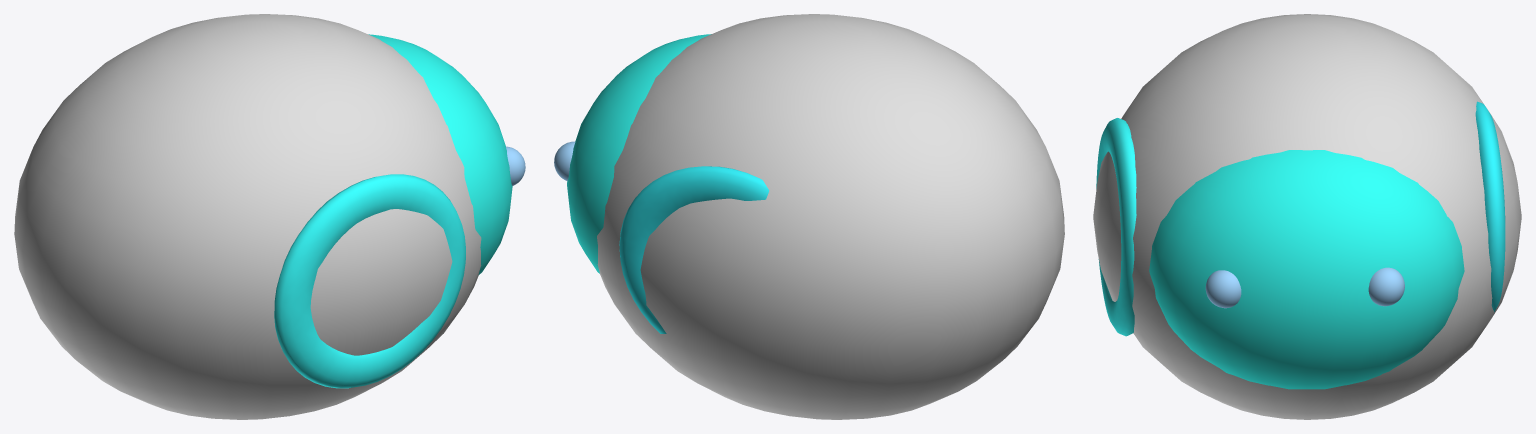
File: guest1.dae
3 views of the same model, side by side, from view 1: azimuth 30°, elevation 25°; view 2: azimuth 150°, elevation 25°; view 3: azimuth 270°, elevation 25° (orthographic). The views are drawn at different scales.
Parts seen in each view (by area): view 1: Sphere, Torus, Sphere_001, Sphere_002; view 2: Sphere, Sphere_001, Torus_001, Sphere_003; view 3: Sphere, Sphere_001, Torus, Torus_001, Sphere_003, Sphere_002.
Part boxes in pixels (bbox=[...]): Sphere: bbox=[14, 14, 481, 419]; Torus: bbox=[274, 174, 465, 388]; Sphere_001: bbox=[368, 34, 512, 275]; Sphere_002: bbox=[506, 146, 525, 185]; Sphere: bbox=[597, 14, 1064, 419]; Sphere_001: bbox=[567, 34, 711, 273]; Torus_001: bbox=[619, 166, 769, 333]; Sphere_003: bbox=[554, 141, 575, 180]; Sphere: bbox=[1093, 14, 1521, 419]; Sphere_001: bbox=[1149, 150, 1464, 389]; Torus: bbox=[1096, 118, 1136, 336]; Torus_001: bbox=[1475, 101, 1505, 312]; Sphere_003: bbox=[1368, 267, 1404, 306]; Sphere_002: bbox=[1205, 270, 1241, 308].
Bounding box in the file's own units: 0.7513 × 0.64 × 0.58.
